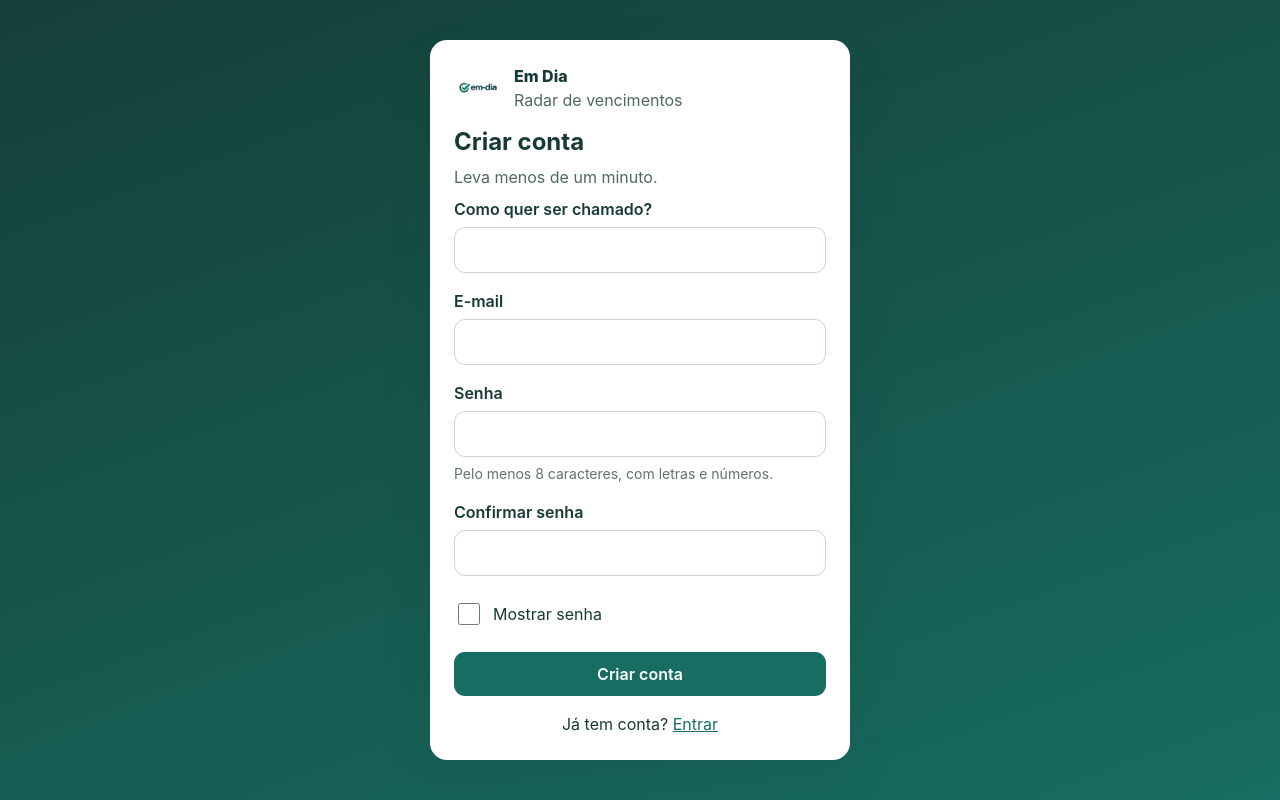
Scenario: Cadastro (T02) › confirmação diferente da senha mostra erro no campo de confirmação
The width and height of the screenshot is (1280, 800).
Type "Rodrigo" into the field labelled "Como quer ser chamado?" at (640, 250), box [454,227,826,273]
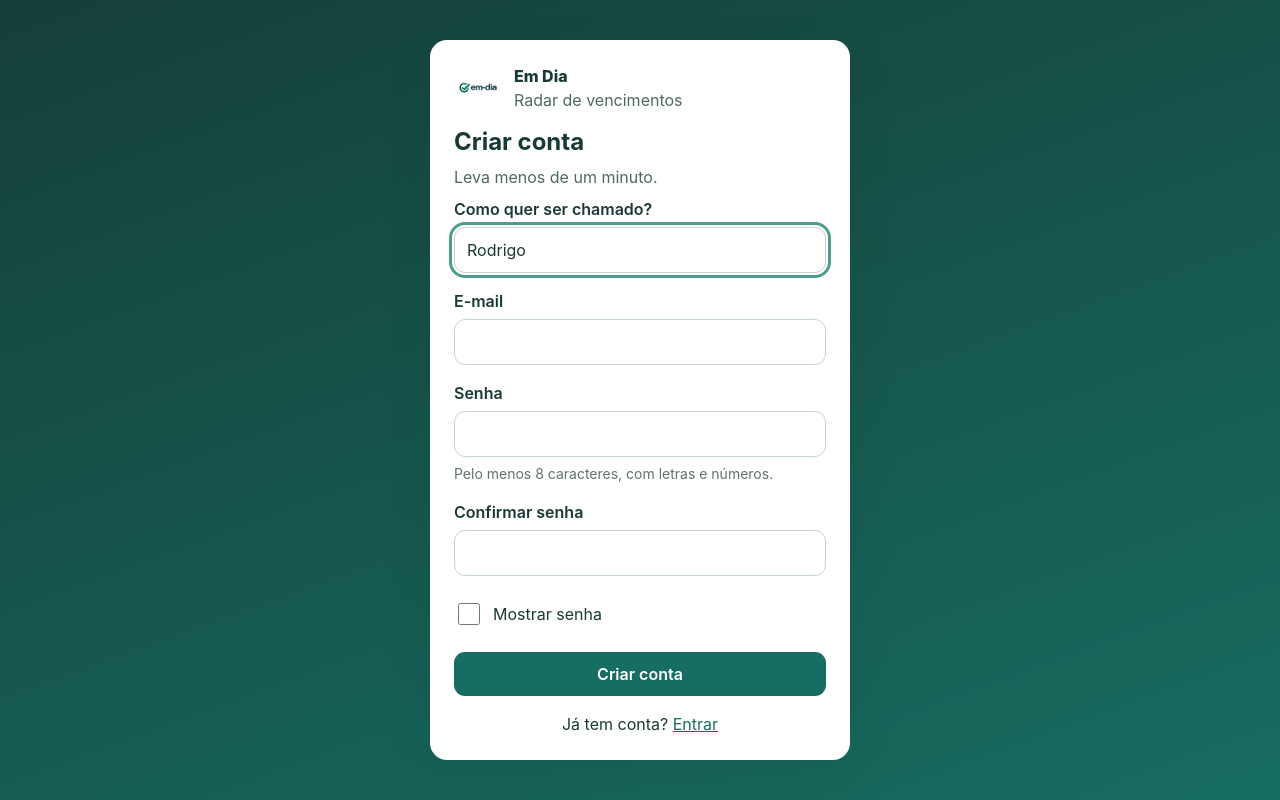
Type "rodrigo@email.com" into the field labelled "E-mail" at (640, 342), box [454,319,826,365]
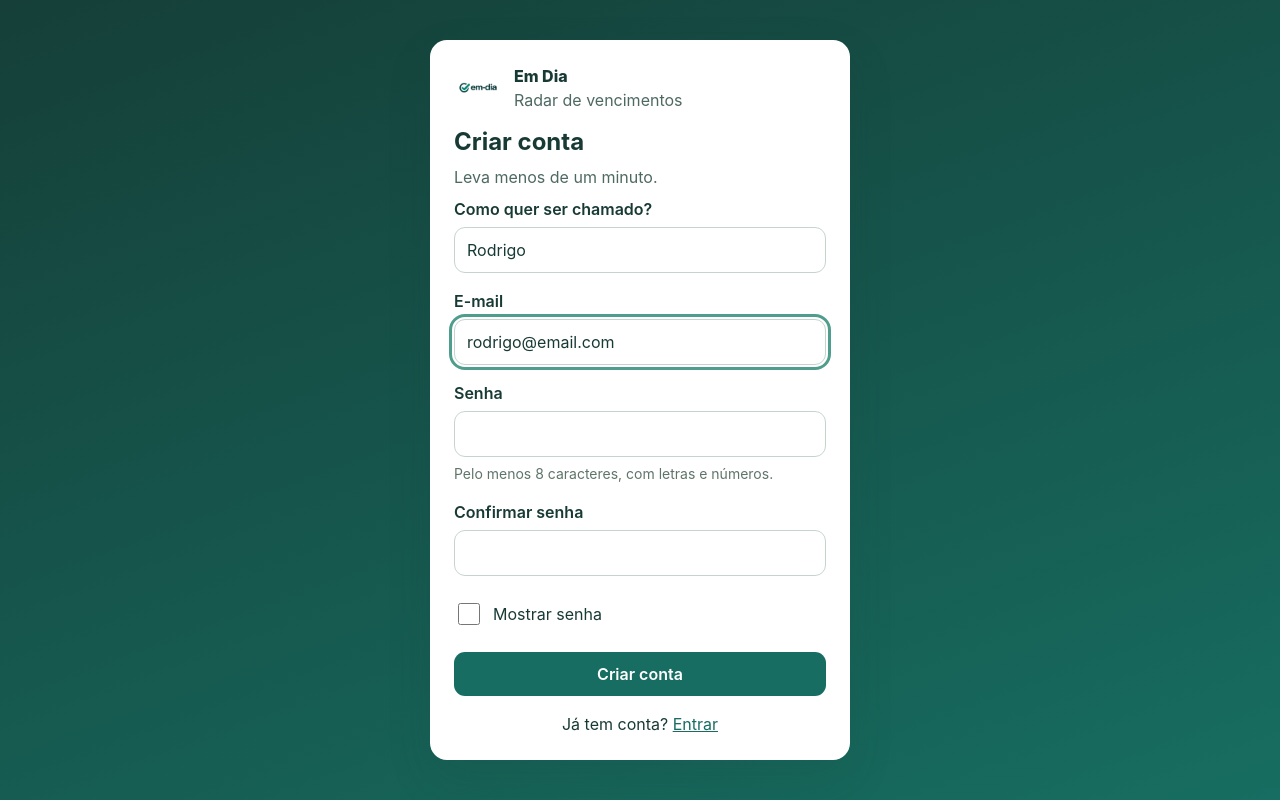
Type "Senha123" into the password field labelled "Senha" at (640, 434), box [454,411,826,457]
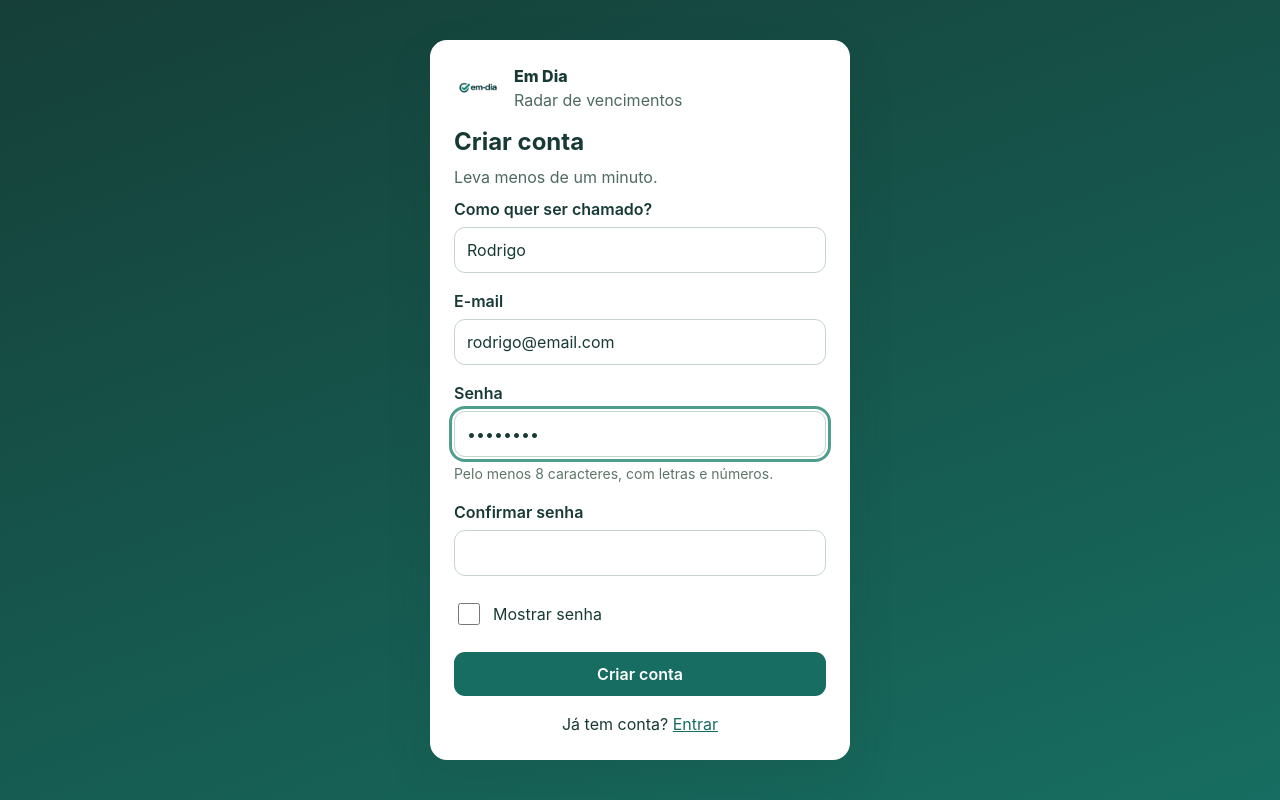
Type "Senha124" into the password field labelled "Confirmar senha" at (640, 553), box [454,530,826,576]
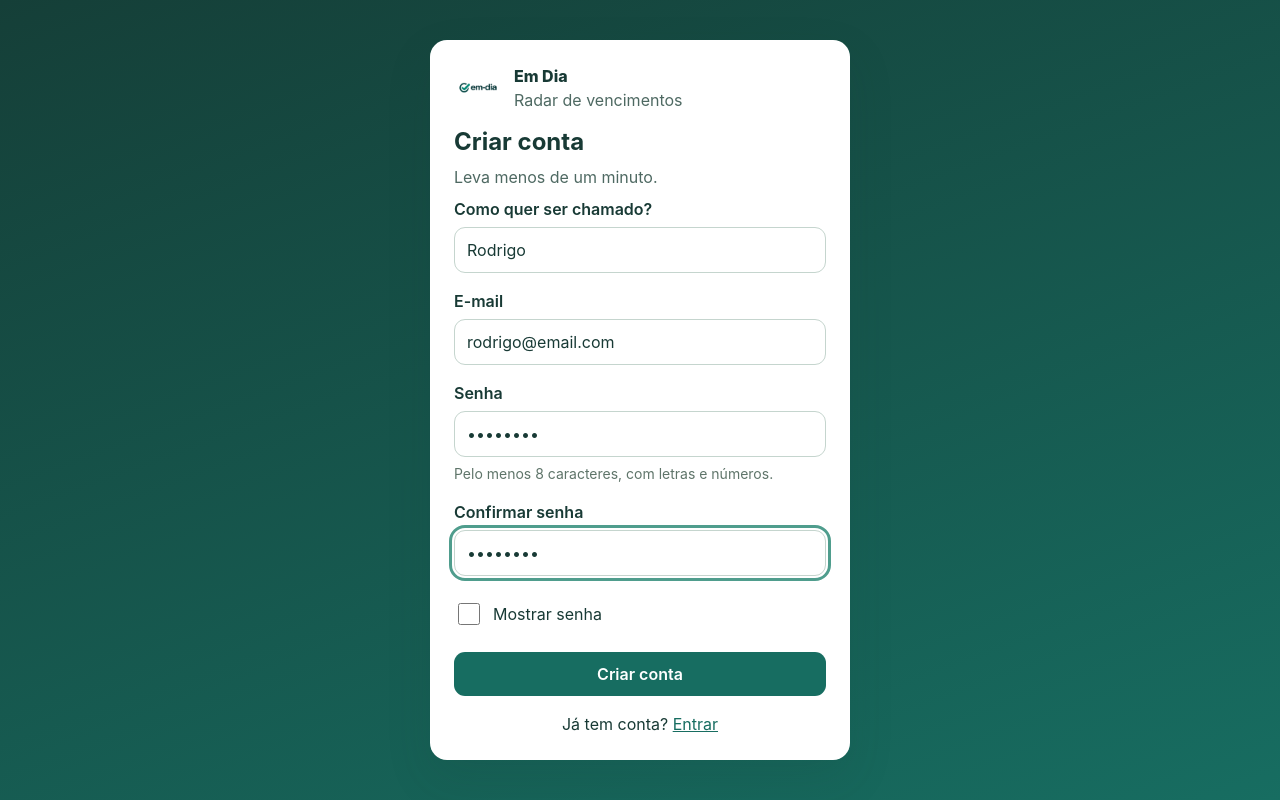
Click the button "Criar conta" at (640, 674), box [454,652,826,696]
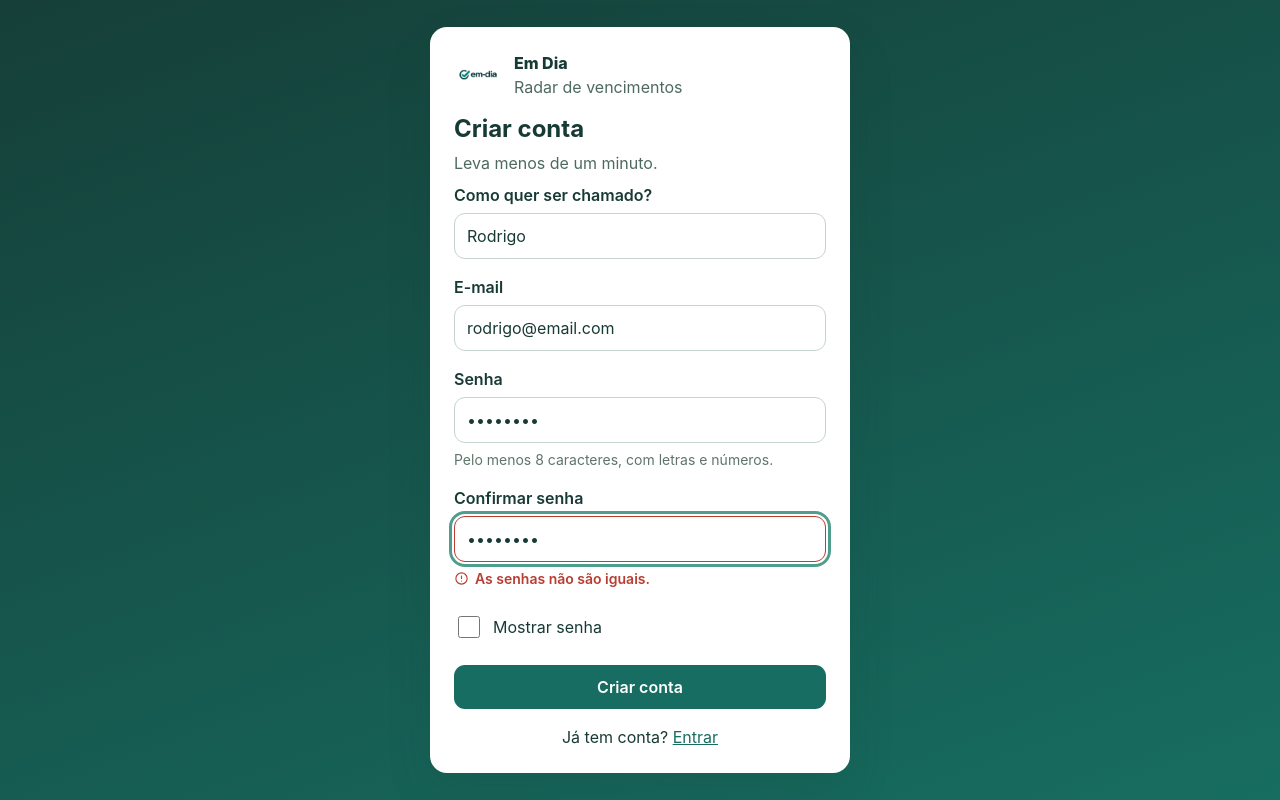
Expected: the text "As senhas não são iguais." is shown, [454,570,650,587]
